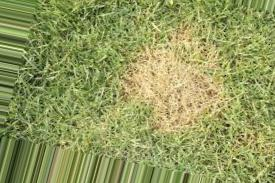patch: (127, 47, 225, 111)
